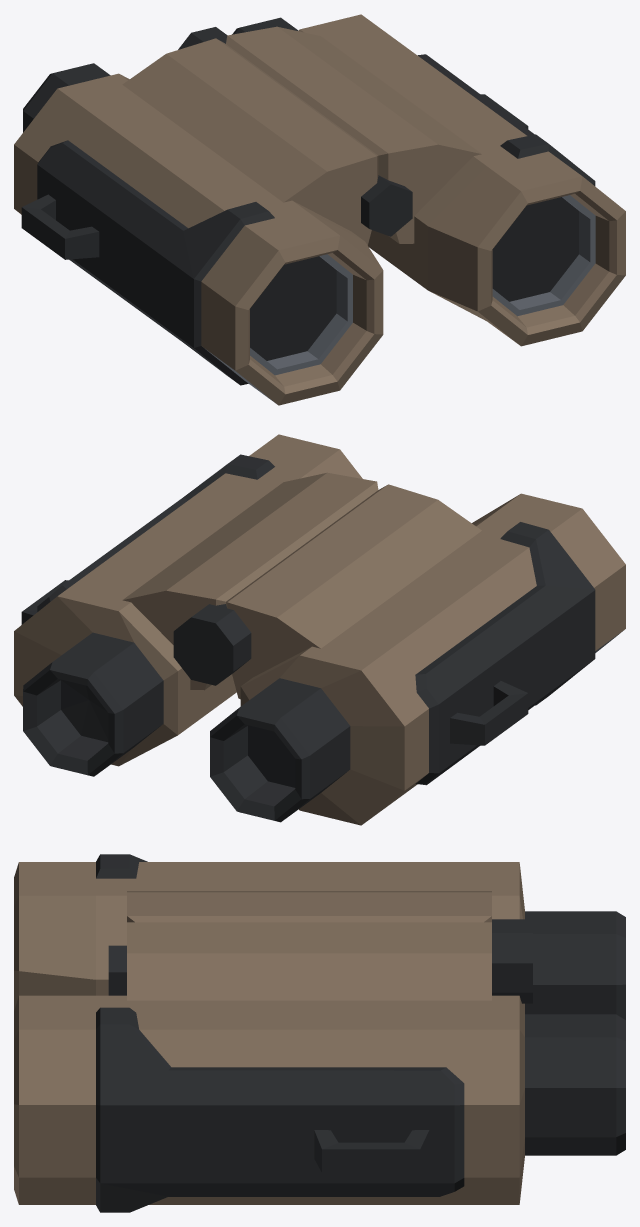
File: SM_Item_Binoculars_01.fbx
3 views of the same model, one above another, from view 1: azimuth 30°, elevation 25°; view 2: azimuth 150°, elevation 25°; view 3: azimuth 270°, elevation 25° (orthographic). The views are drawn at different scales.
Parts seen in each view (by area): view 1: SM_Item_Binoculars_01; view 2: SM_Item_Binoculars_01; view 3: SM_Item_Binoculars_01.
Boxes of the visible parts, x1,y1,x2,y2 form: SM_Item_Binoculars_01: [14, 14, 625, 405]; SM_Item_Binoculars_01: [14, 434, 625, 825]; SM_Item_Binoculars_01: [14, 854, 625, 1212].
Size of the model in its own units: 34.95 by 13.36 by 35.35.
